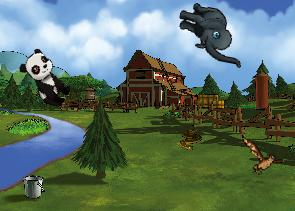eagle: (233, 134, 287, 180)
elephant: (171, 0, 250, 68)
panda: (15, 46, 77, 112)
